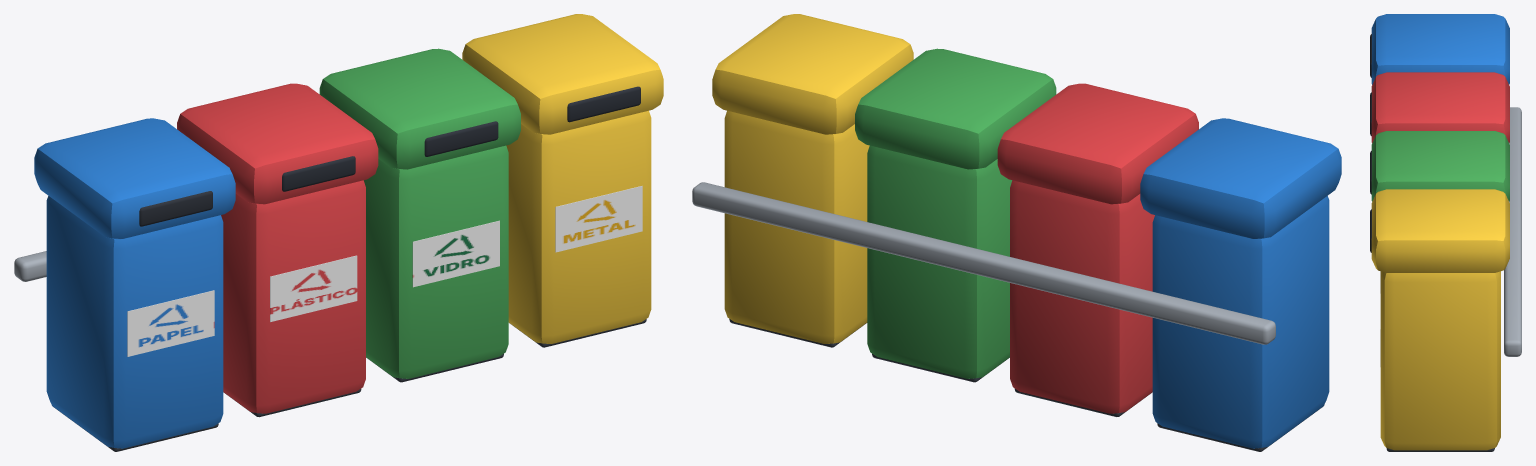
The model's file is lixeira_reciclagem.glb.
3 renders of one model, left to right at view 1: azimuth 30°, elevation 25°; view 2: azimuth 150°, elevation 25°; view 3: azimuth 270°, elevation 25°, orthographic. The views are drawn at different scales.
Parts seen in each view (by area): view 1: lixeira_reciclagem; view 2: lixeira_reciclagem; view 3: lixeira_reciclagem.
Boxes of the visible parts, left/top/right/bottom form: lixeira_reciclagem: left=14, top=14, right=663, bottom=451; lixeira_reciclagem: left=692, top=14, right=1341, bottom=451; lixeira_reciclagem: left=1370, top=14, right=1521, bottom=451.
Size of the model in its own units: 1.86 by 0.81 by 0.505.
Materials: 2 (2 with a texture image).
